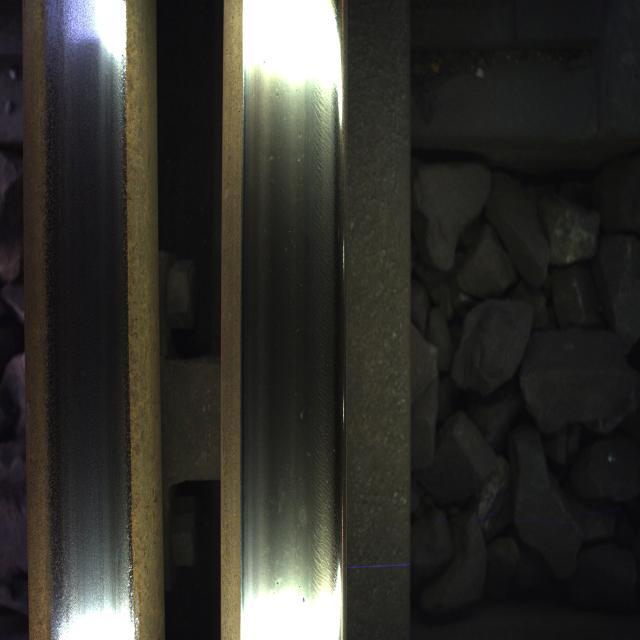break: (246, 65, 336, 585), (46, 60, 136, 556)
